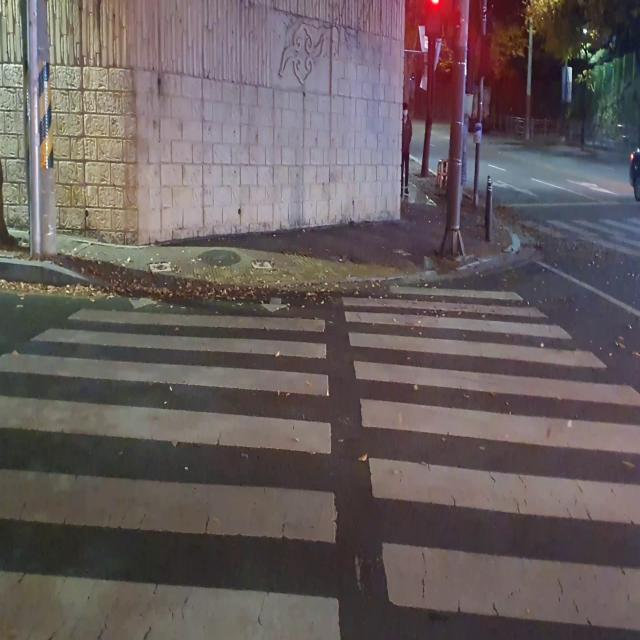crosswalk: (0, 284, 640, 640), (517, 215, 639, 268)
